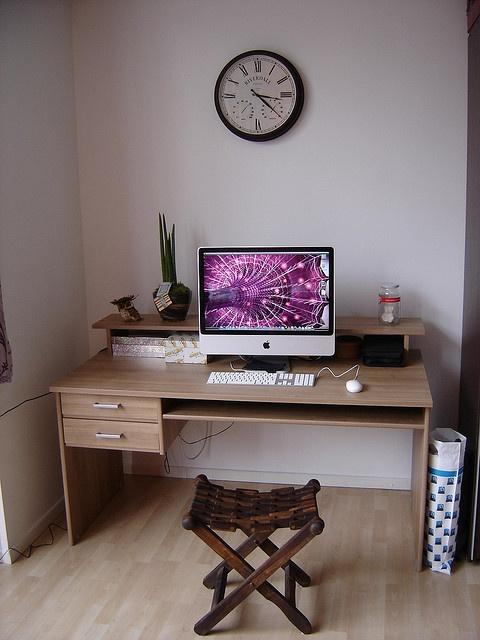AIO PC-Monitor-TV: (195, 245, 336, 372)
Meja: (47, 344, 433, 572)
